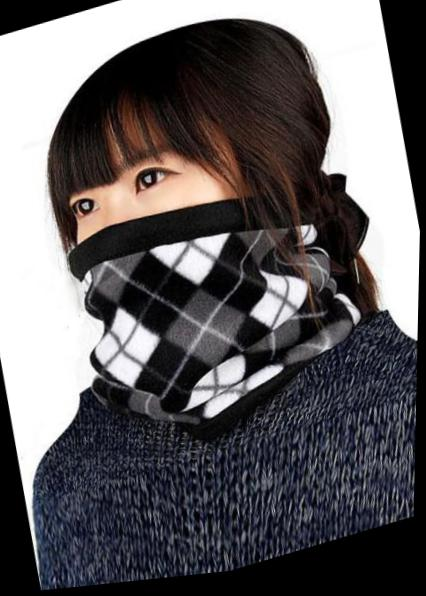OK: (51, 115, 242, 360)
